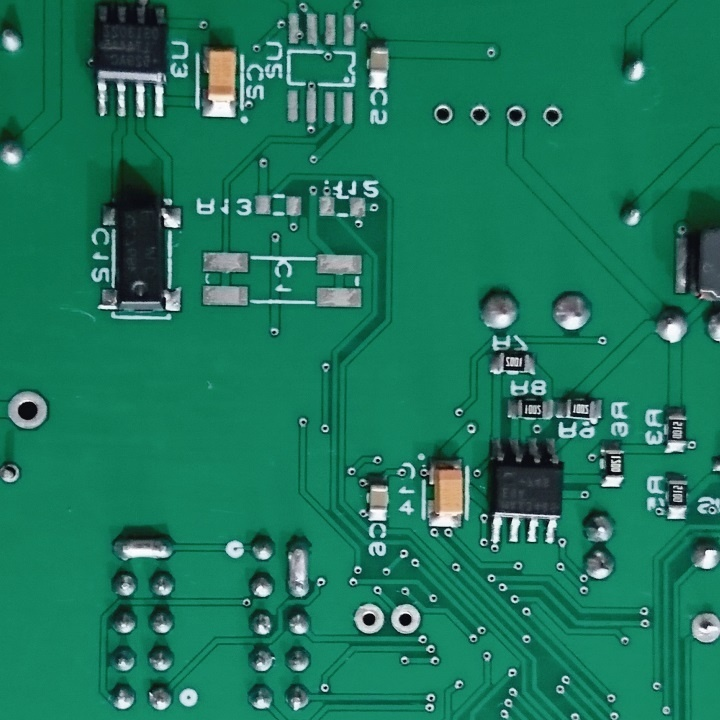F: (5, 389, 55, 433), (350, 600, 386, 639), (387, 600, 423, 639), (687, 608, 720, 649), (1, 460, 27, 491), (501, 102, 527, 130), (432, 101, 456, 128), (467, 103, 492, 128), (540, 103, 563, 129)
P: (280, 532, 316, 603), (106, 532, 178, 565)
